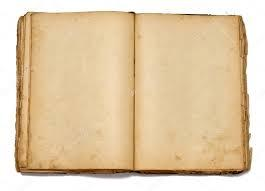Paper: (11, 10, 265, 189)
